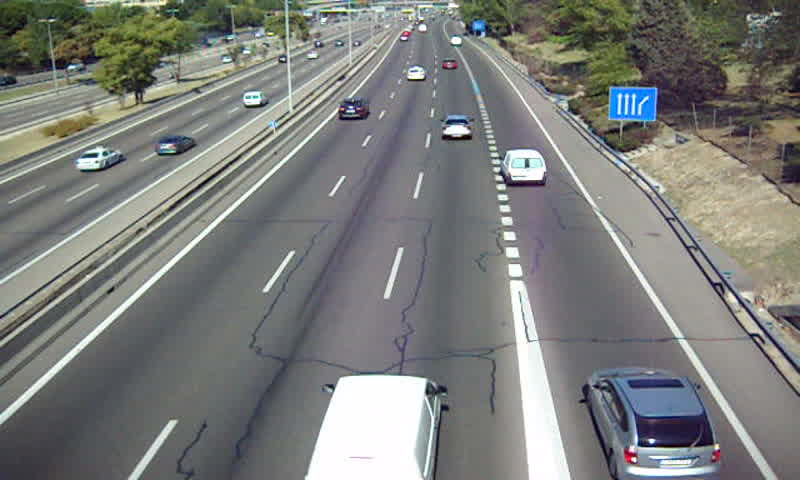car: (587, 368, 723, 480), (440, 116, 474, 141), (338, 97, 369, 119), (406, 65, 427, 82), (442, 58, 458, 70)
van: (307, 375, 439, 480), (501, 150, 547, 184)
